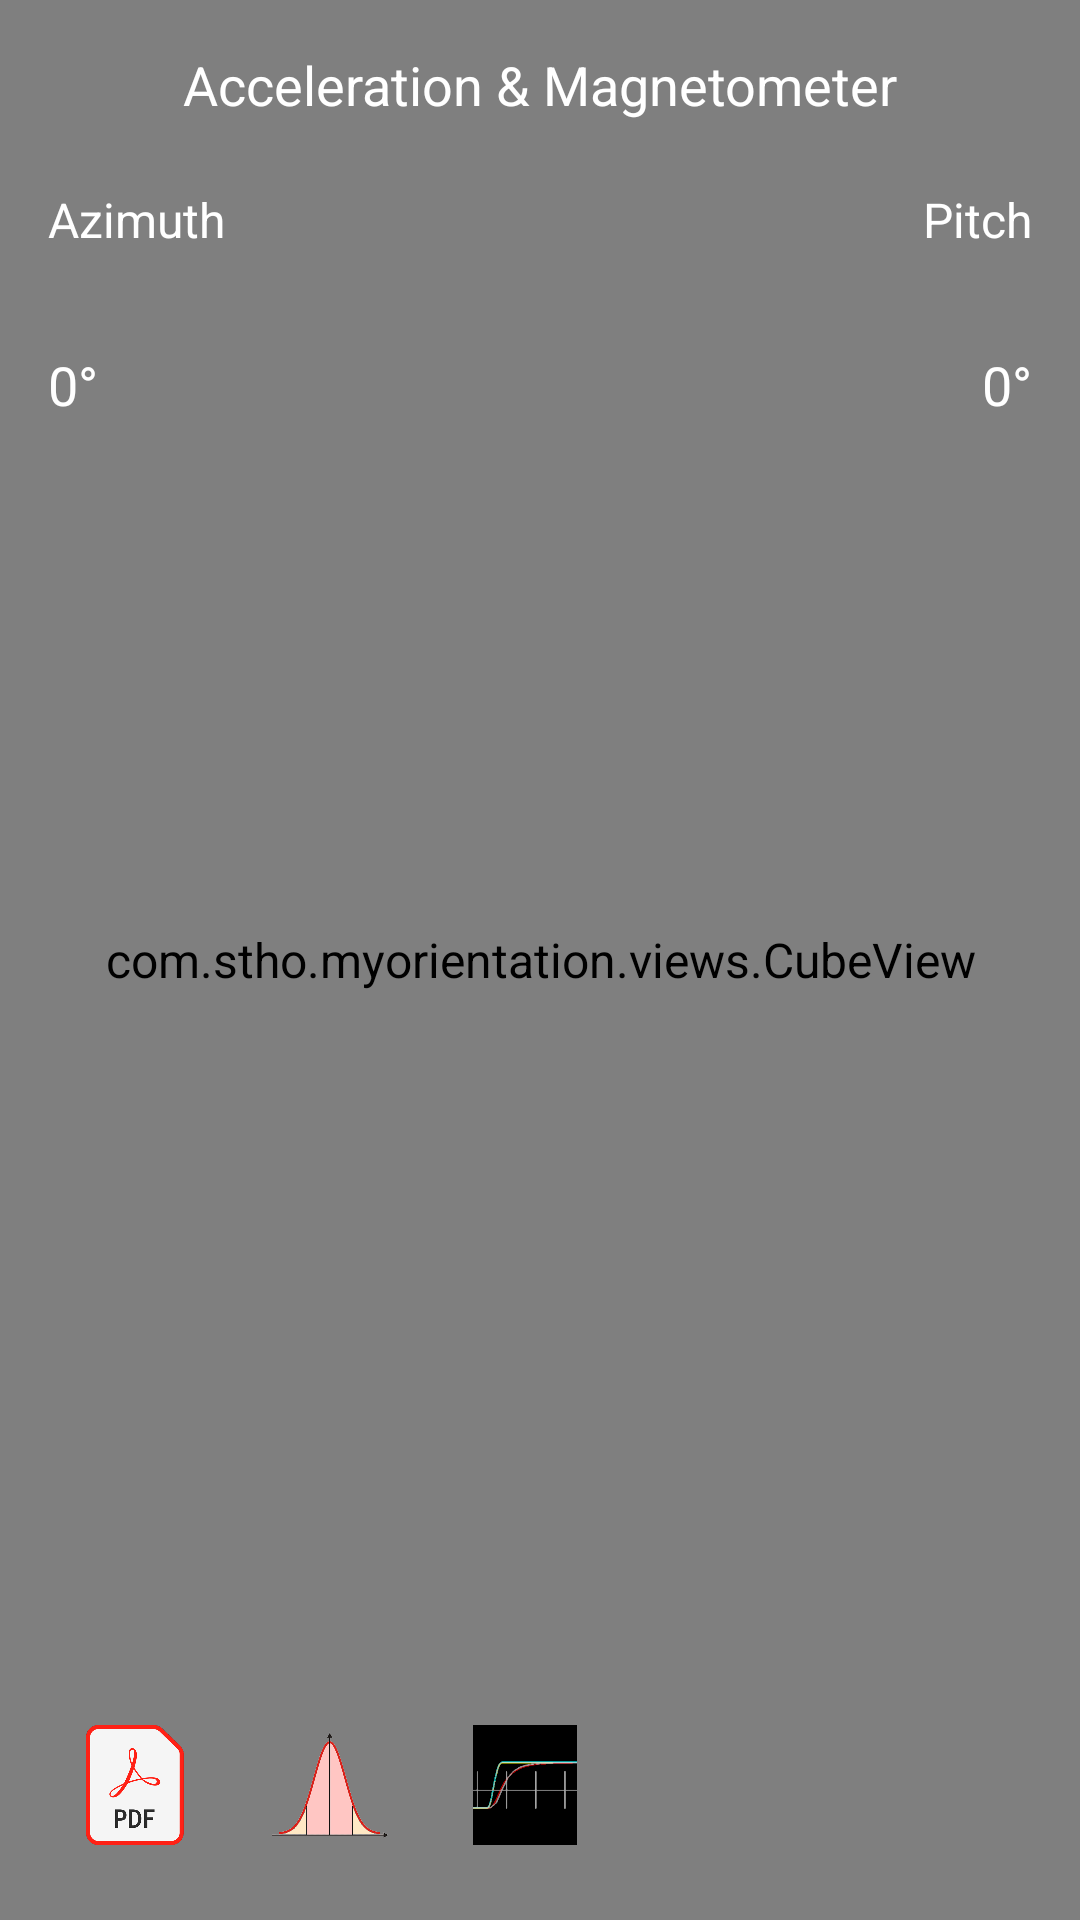

Locate icon controls on the screen. Image size 1080px x 1920px, boxes as (x1, y1, x2, y2).
sensors: (473, 1725, 577, 1845)
statistics: (272, 1733, 387, 1837)
